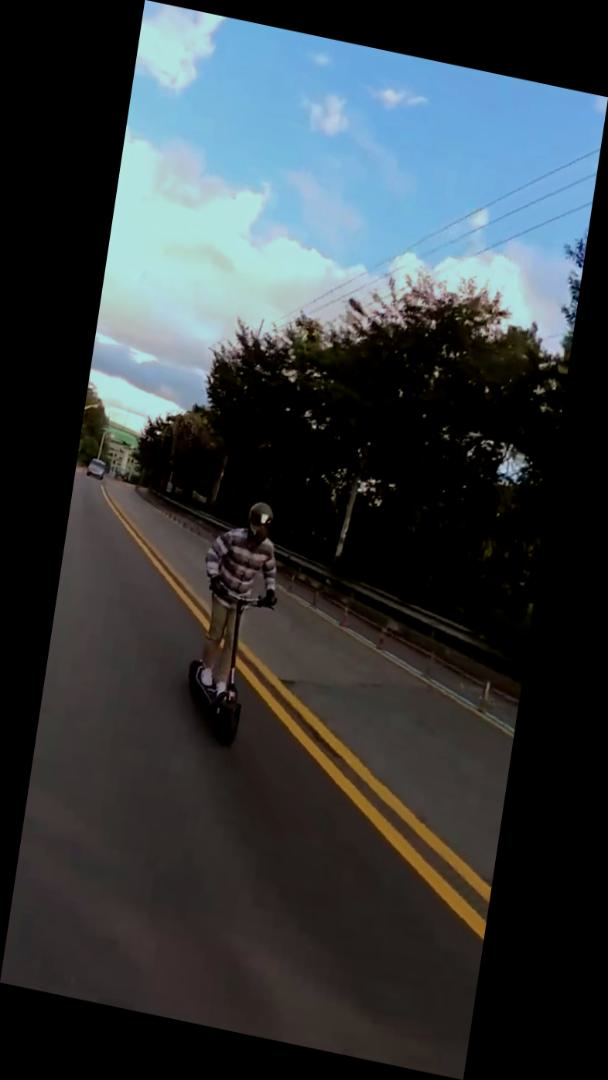helmet: (176, 488, 295, 758)
